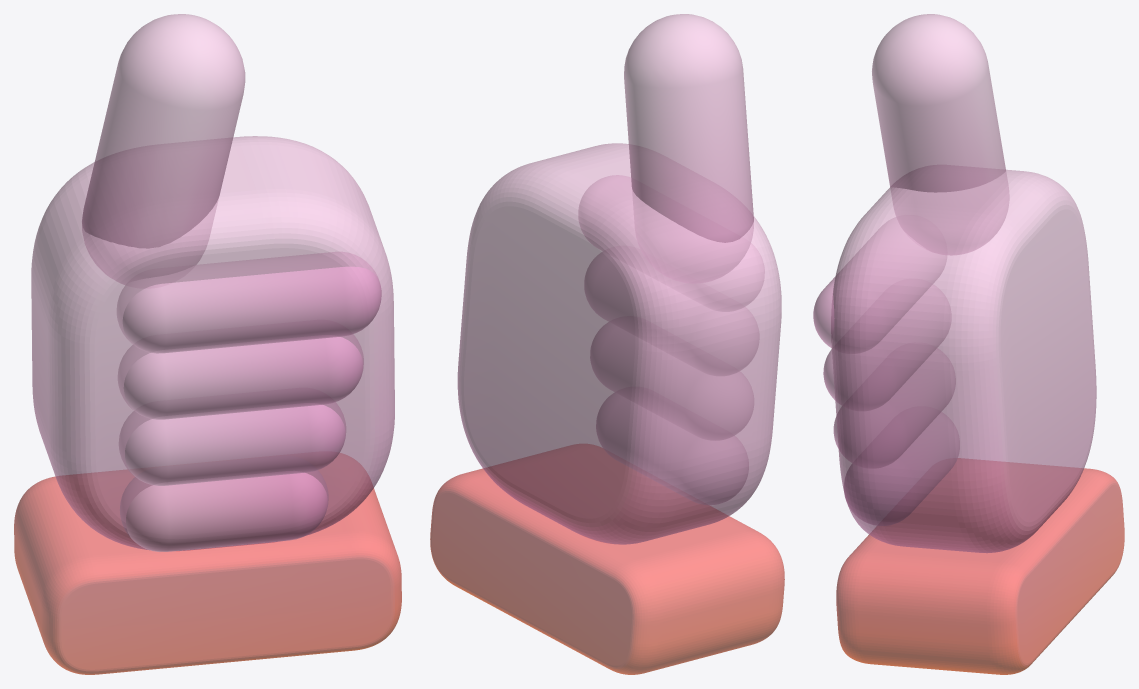
Rendered from thumbs-up.glb.
3 views of the same model, side by side, from view 1: azimuth 30°, elevation 25°; view 2: azimuth 150°, elevation 25°; view 3: azimuth 270°, elevation 25° (orthographic). The views are drawn at different scales.
Parts seen in each view (by area): view 1: palm, cuff, thumb, finger_1, finger_2, finger_3, finger_4; view 2: palm, cuff, thumb, finger_2, finger_3, finger_4, finger_1; view 3: palm, cuff, thumb, finger_1, finger_2, finger_3, finger_4.
Boxes of the visible parts, box(x1,y1,x2,y2) form: palm: box(31, 136, 394, 550); cuff: box(14, 453, 401, 674); thumb: box(82, 14, 245, 284); finger_1: box(117, 252, 381, 353); finger_2: box(118, 335, 363, 419); finger_3: box(119, 402, 345, 485); finger_4: box(120, 470, 327, 552); palm: box(457, 143, 781, 544); cuff: box(430, 444, 784, 674); thumb: box(624, 14, 753, 282); finger_2: box(585, 252, 758, 375); finger_3: box(590, 322, 753, 440); finger_4: box(596, 393, 748, 504); finger_1: box(579, 175, 764, 311); palm: box(831, 165, 1096, 553); cuff: box(836, 458, 1124, 674); thumb: box(872, 14, 1008, 254); finger_1: box(813, 217, 946, 353); finger_2: box(823, 285, 950, 410); finger_3: box(833, 348, 955, 467); finger_4: box(844, 412, 959, 525).
Bounding box in the file's own units: 0.5296 × 0.9324 × 0.4514.
